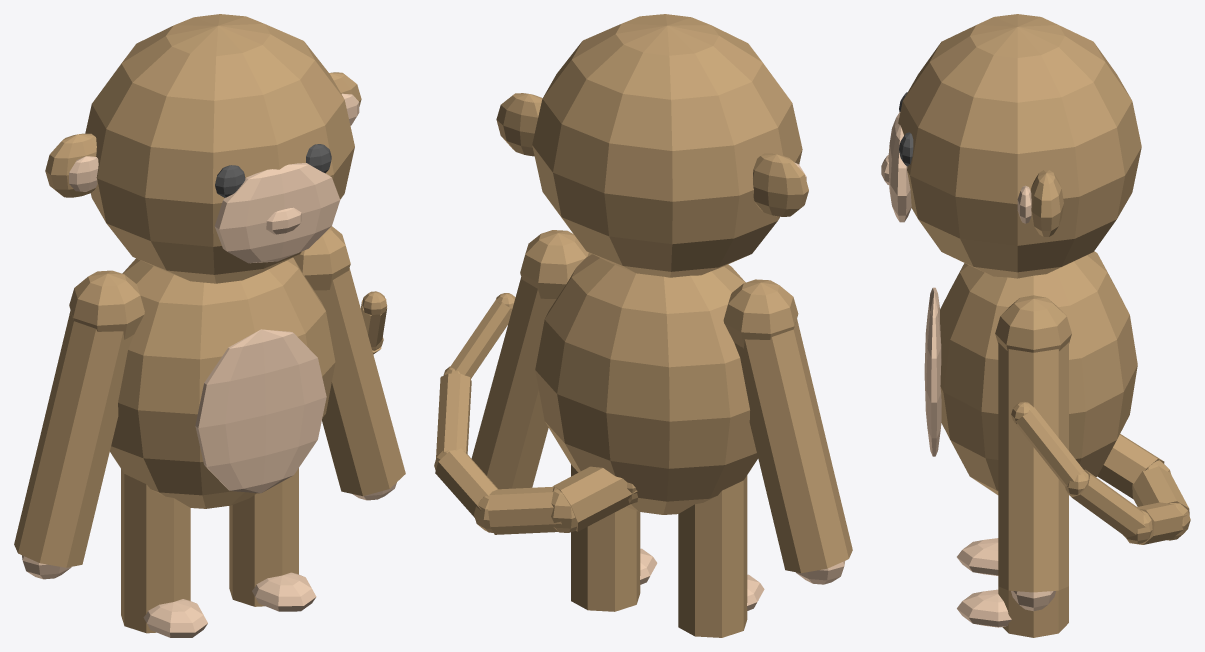
The model's file is grotto_monkey.fbx.
The picture shows the model from 3 angles, left to right: view 1: azimuth 30°, elevation 25°; view 2: azimuth 150°, elevation 25°; view 3: azimuth 270°, elevation 25°; orthographic projection. The views are drawn at different scales.
Parts seen in each view (by area): view 1: Monkey_Head, Monkey_Body, Monkey_ArmL, Monkey_Belly, Monkey_ArmR, Monkey_LegL, Monkey_Muzzle, Monkey_LegR, Monkey_ShoulderCapL, Monkey_ShoulderCapR, Monkey_EarL, Monkey_FootR (+7 smaller); view 2: Monkey_Head, Monkey_Body, Monkey_ArmL, Monkey_ArmR, Monkey_LegL, Monkey_LegR, Monkey_ShoulderCapL, Monkey_ShoulderCapR, Monkey_Tail_1, Monkey_Tail_2, Monkey_EarL, Monkey_Tail_4 (+5 smaller); view 3: Monkey_Head, Monkey_Body, Monkey_ArmR, Monkey_ShoulderCapR, Monkey_Belly, Monkey_Tail_4, Monkey_LegR, Monkey_Tail_5, Monkey_Tail_1, Monkey_EarR, Monkey_Muzzle, Monkey_Tail_2 (+5 smaller).
Part boxes in pixels (x1,y1,x2,y2): Monkey_Head: [85, 14, 354, 283]; Monkey_Body: [110, 257, 335, 508]; Monkey_ArmL: [14, 310, 133, 567]; Monkey_Belly: [195, 329, 326, 493]; Monkey_ArmR: [314, 268, 405, 496]; Monkey_LegL: [121, 469, 190, 633]; Monkey_Muzzle: [214, 163, 340, 263]; Monkey_LegR: [229, 468, 298, 606]; Monkey_ShoulderCapL: [69, 270, 144, 339]; Monkey_ShoulderCapR: [293, 226, 350, 290]; Monkey_EarL: [45, 133, 96, 197]; Monkey_FootR: [252, 572, 316, 611]; Monkey_Head: [532, 14, 802, 277]; Monkey_Body: [535, 254, 758, 514]; Monkey_ArmL: [734, 319, 852, 573]; Monkey_ArmR: [471, 277, 556, 489]; Monkey_LegL: [678, 475, 747, 637]; Monkey_LegR: [571, 464, 640, 611]; Monkey_ShoulderCapL: [723, 279, 798, 347]; Monkey_ShoulderCapR: [520, 230, 591, 298]; Monkey_Tail_1: [553, 466, 637, 531]; Monkey_Tail_2: [488, 486, 561, 534]; Monkey_EarL: [753, 153, 808, 216]; Monkey_Tail_4: [436, 373, 471, 457]; Monkey_Head: [898, 14, 1141, 278]; Monkey_Body: [940, 251, 1137, 494]; Monkey_ArmR: [998, 342, 1068, 592]; Monkey_ShoulderCapR: [995, 295, 1071, 352]; Monkey_Belly: [924, 287, 941, 456]; Monkey_Tail_4: [1066, 469, 1145, 537]; Monkey_LegR: [998, 586, 1068, 637]; Monkey_Tail_5: [1014, 407, 1084, 486]; Monkey_Tail_1: [1097, 434, 1164, 499]; Monkey_EarR: [1030, 170, 1063, 236]; Monkey_Muzzle: [888, 112, 911, 222]; Monkey_Tail_2: [1132, 466, 1189, 515].
Bounding box in the file's own units: 272 × 393 × 193.
